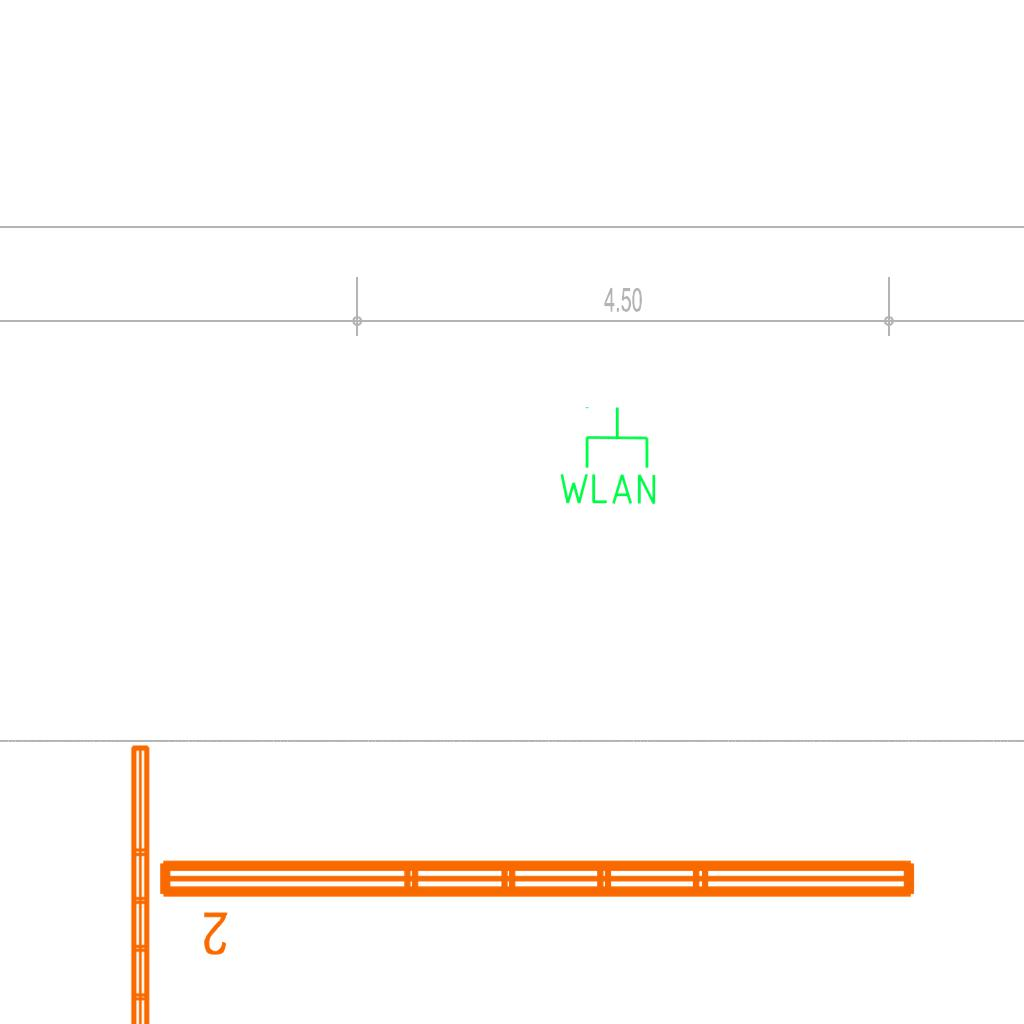Ambulanz_Pendelleuchte_LED: (151, 848, 925, 960), (125, 740, 181, 1024)
WLAN: (555, 404, 660, 508)
